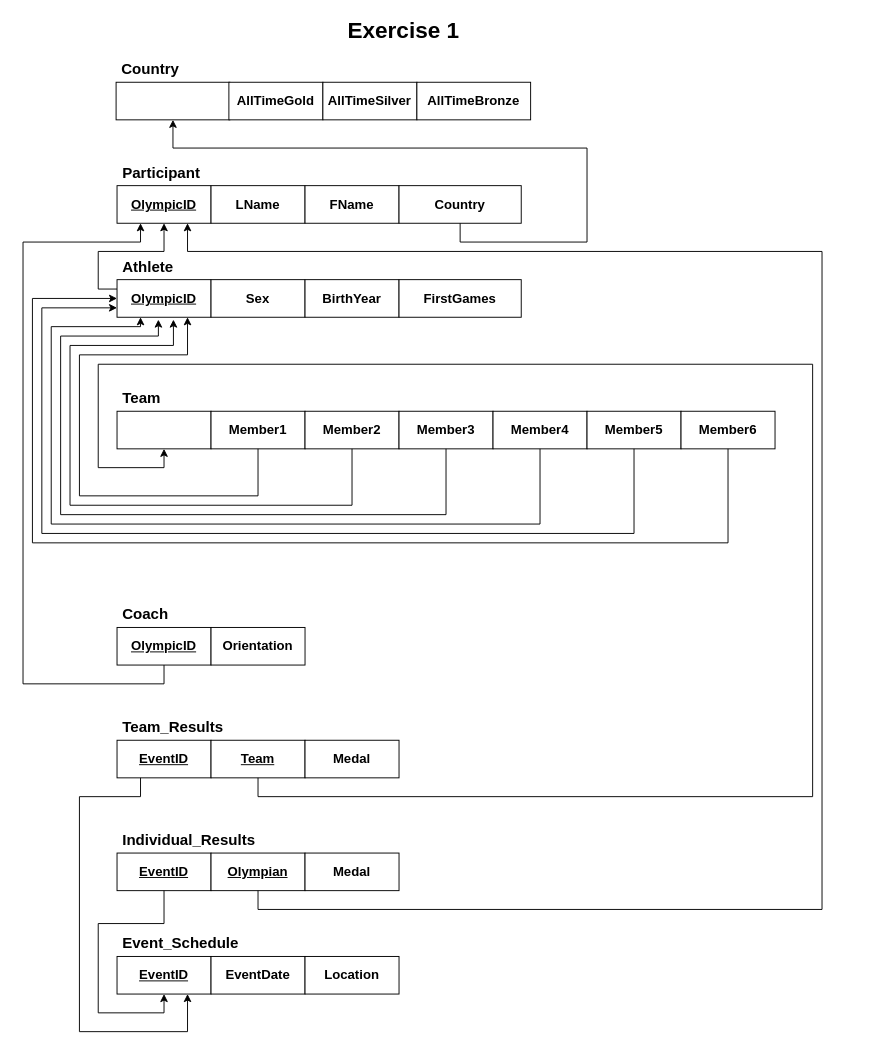
This 885x1056 diagram has some shape labels left out. The shapes that lost their labels are listed below. From the top down, each one's centre as x and y in pixels, then its label:
the point at 172,100: CName
the point at 163,429: TeamID
